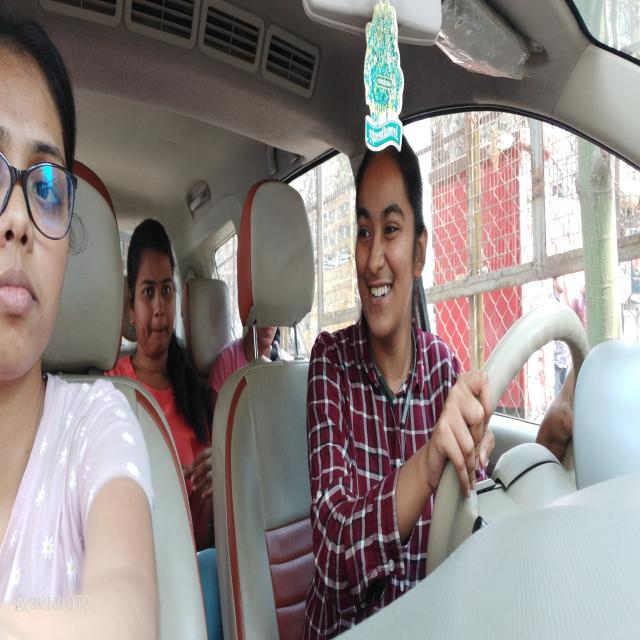LeftRight: (349, 146, 428, 354)
person: (0, 3, 86, 393), (126, 214, 180, 363), (253, 324, 287, 366)
talking: (364, 277, 397, 310)
